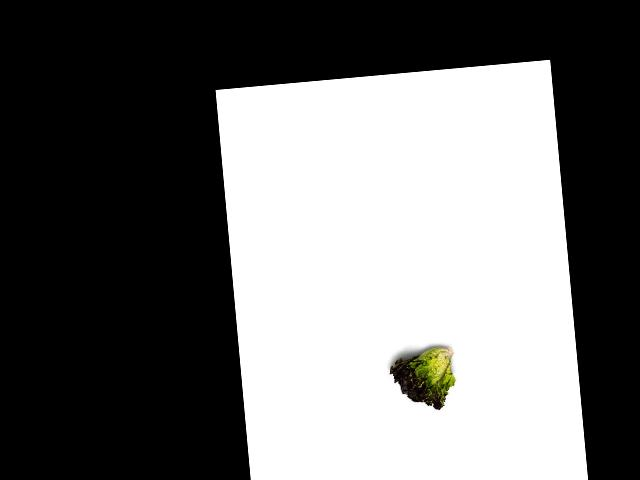lettuce: (383, 345, 460, 413)
